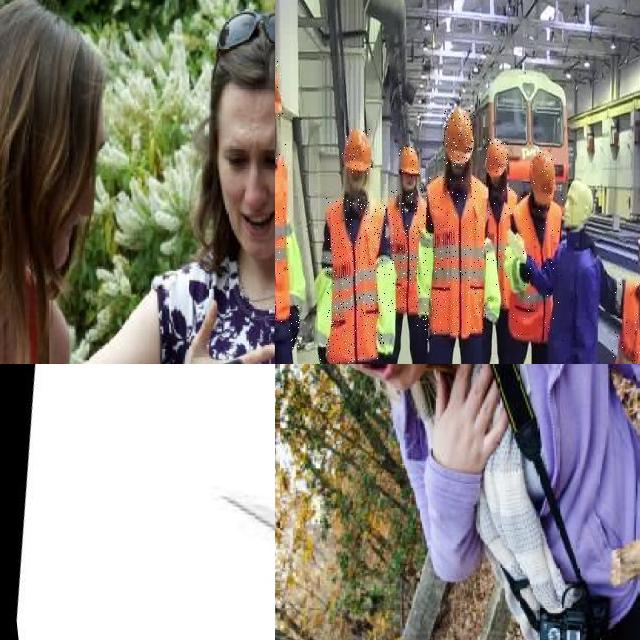No_Glasses: (215, 132, 275, 179)
face_nomask: (218, 127, 275, 238)
glasses: (220, 11, 275, 67)
hand_noglove: (411, 364, 523, 456)
head_helmet: (444, 110, 474, 166), (530, 151, 556, 209), (342, 130, 372, 176), (484, 138, 508, 178), (398, 146, 420, 179), (275, 58, 283, 116)
head_nohelmet: (0, 0, 102, 72)
person: (275, 364, 640, 640), (127, 0, 275, 364), (0, 16, 100, 364)
vest: (326, 197, 386, 364), (427, 175, 487, 337), (511, 194, 563, 344), (388, 188, 428, 312), (486, 188, 516, 308), (275, 141, 289, 326), (612, 279, 640, 364)
